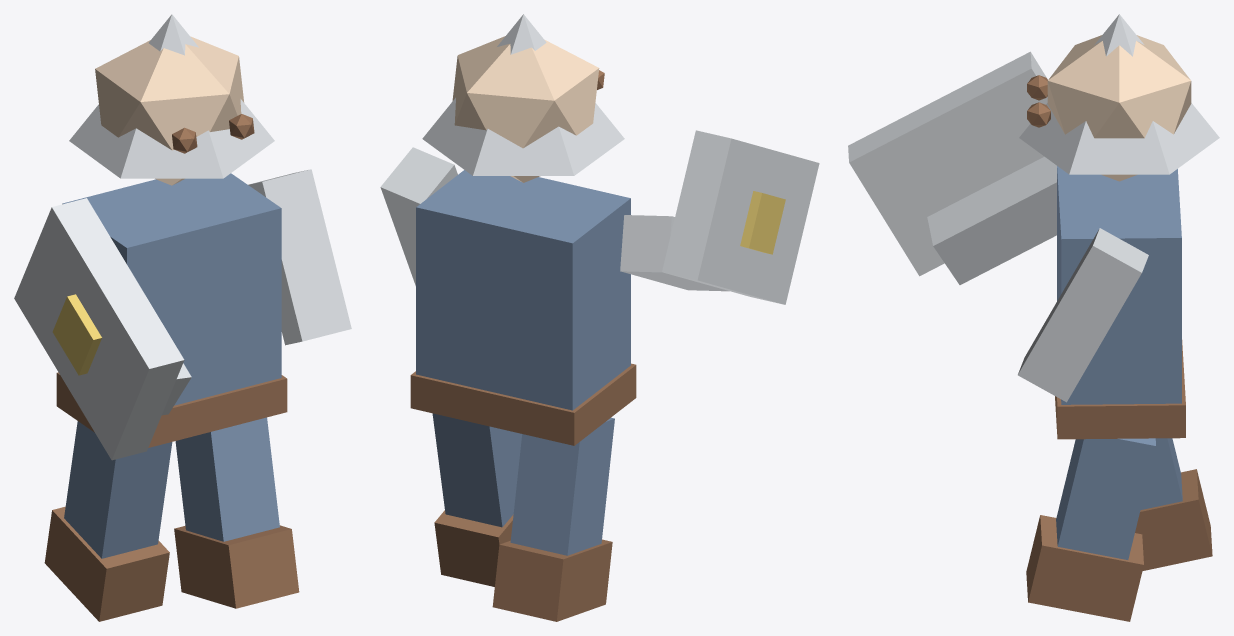
Rendered from npcpose_guard_walk_05.glb.
3 renders of one model, left to right at view 1: azimuth 30°, elevation 25°; view 2: azimuth 150°, elevation 25°; view 3: azimuth 270°, elevation 25°, orthographic. The views are drawn at different scales.
Visible parts, largest first — view 1: npcpose; view 2: npcpose; view 3: npcpose.
Part boxes in pixels (<box>): npcpose: <box>14,14,351,621</box>; npcpose: <box>380,14,819,621</box>; npcpose: <box>848,14,1219,621</box>.
Size of the model in its own units: 0.8684 by 1.57 by 0.9251.
